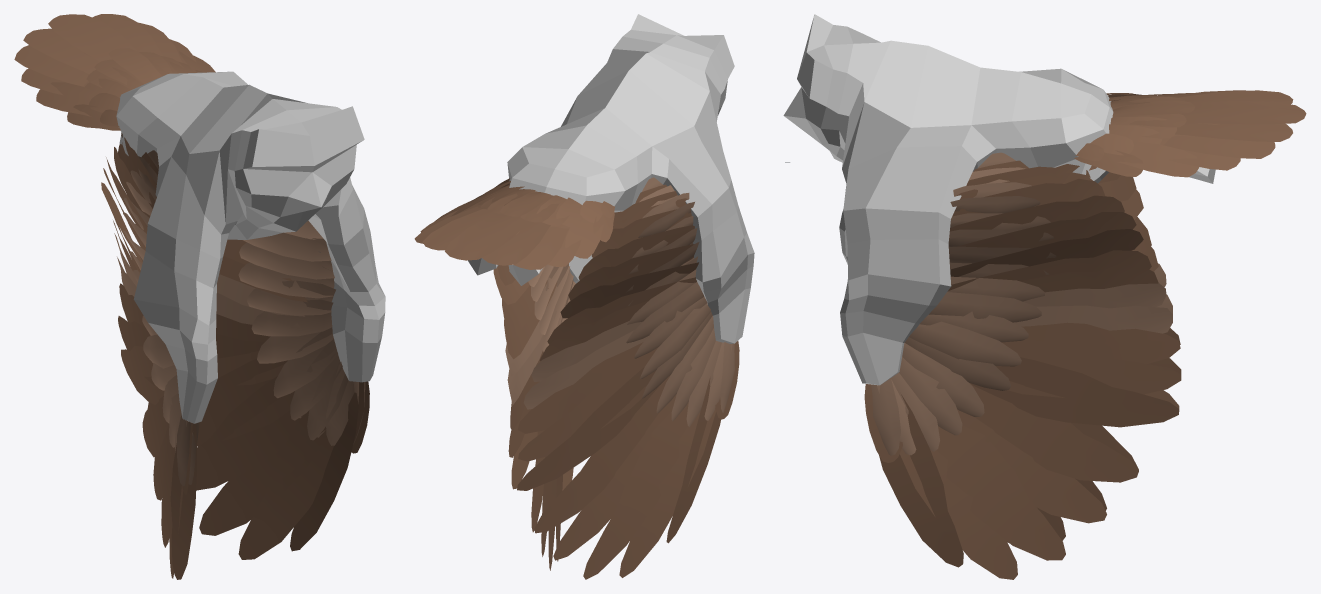
The model's file is Owl.obj.
The picture shows the model from 3 angles, left to right: view 1: azimuth 30°, elevation 25°; view 2: azimuth 150°, elevation 25°; view 3: azimuth 270°, elevation 25°; orthographic projection. The views are drawn at different scales.
Visible parts, largest first — view 1: Owl.MDef_Cube, Primary.L.008_Primary.010, Primary.L.006_Primary.010, Primary.L.007_Primary.010, Primary.L.005_Primary.010, Primary.L.009_Primary.010, TailFeather, Primary.L.018_Primary.010, Secondary.L.025_Coverts.020, Secondary.L.023_Coverts.020, Secondary.L.113_Coverts.020, Secondary.L.111_Coverts.020 (+34 smaller); view 2: Owl.MDef_Cube, Primary.L.011_Primary.010, Primary.L.013_Primary.010, Primary.L.014_Primary.010, Primary.L.010_Primary.010, Primary.L.012_Primary.010, Primary.L.015_Primary.010, Primary.L.016_Primary.002, TailFeather, Primary.L.018_Primary.010, Primary.L.017_Primary.001, Secondary.L.029_Secondary.003 (+38 smaller); view 3: Owl.MDef_Cube, Primary.L.007_Primary.010, Primary.L.004_Primary.010, Primary.L.005_Primary.010, Primary.L.009_Primary.010, Primary.L.003_Primary.010, Primary.L.006_Primary.010, Primary.L.008_Primary.010, Primary.L.002_Primary.002, Secondary.L.144_Secondary.003, Primary.L.001_Primary.001, Secondary.L.145_Secondary.003 (+33 smaller).
Part boxes in pixels (x1,y1,x2,y2): Owl.MDef_Cube: (116,71,385,423); Primary.L.008_Primary.010: (238,410,333,559); Primary.L.006_Primary.010: (196,376,302,490); Primary.L.007_Primary.010: (199,391,326,535); Primary.L.005_Primary.010: (197,358,294,446); Primary.L.009_Primary.010: (290,382,359,551); TailFeather: (48,14,136,61); Primary.L.018_Primary.010: (170,423,196,579); Secondary.L.025_Coverts.020: (251,299,333,336); Secondary.L.023_Coverts.020: (273,327,337,398); Secondary.L.113_Coverts.020: (239,242,334,279); Secondary.L.111_Coverts.020: (247,280,335,315); Owl.MDef_Cube: (468,14,754,343); Primary.L.011_Primary.010: (583,402,688,579); Primary.L.013_Primary.010: (534,375,670,533); Primary.L.014_Primary.010: (517,366,660,490); Primary.L.010_Primary.010: (619,409,715,577); Primary.L.012_Primary.010: (553,394,676,560); Primary.L.015_Primary.010: (518,347,658,461); Primary.L.016_Primary.002: (517,342,643,433); TailFeather: (445,213,530,260); Primary.L.018_Primary.010: (666,377,720,543); Primary.L.017_Primary.001: (523,330,648,409); Secondary.L.029_Secondary.003: (560,262,698,318); Owl.MDef_Cube: (783,14,1215,385); Primary.L.007_Primary.010: (936,426,1065,560); Primary.L.004_Primary.010: (971,357,1179,427); Primary.L.005_Primary.010: (969,383,1138,482); Primary.L.009_Primary.010: (879,394,963,567); Primary.L.003_Primary.010: (1002,339,1181,397); Primary.L.006_Primary.010: (957,409,1106,523); Primary.L.008_Primary.010: (899,448,1017,579); Primary.L.002_Primary.002: (1021,322,1180,363); Secondary.L.144_Secondary.003: (950,229,1143,276); Primary.L.001_Primary.001: (1013,305,1172,333); Secondary.L.145_Secondary.003: (958,212,1136,248).
Bounding box in the file's own units: 6.45 × 14.82 × 13.36.
